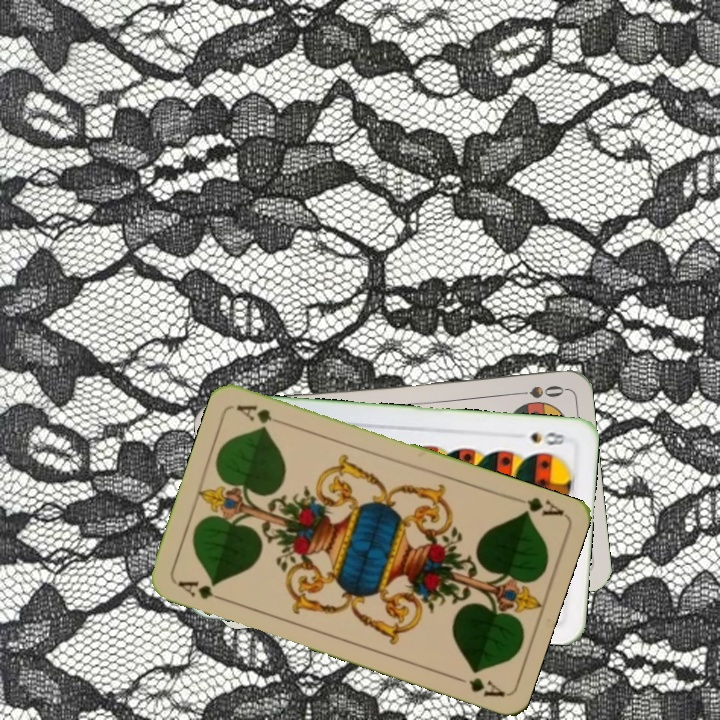GA: (507, 492, 566, 520), (174, 576, 230, 605)
S8: (526, 427, 568, 448)
SO: (507, 381, 567, 401)
